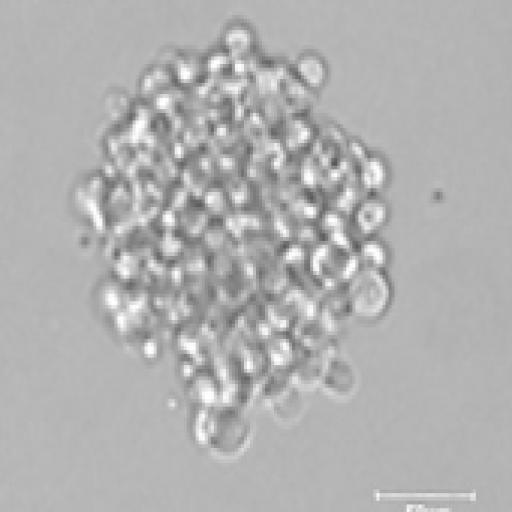CFU-GM: (72, 19, 389, 452)
